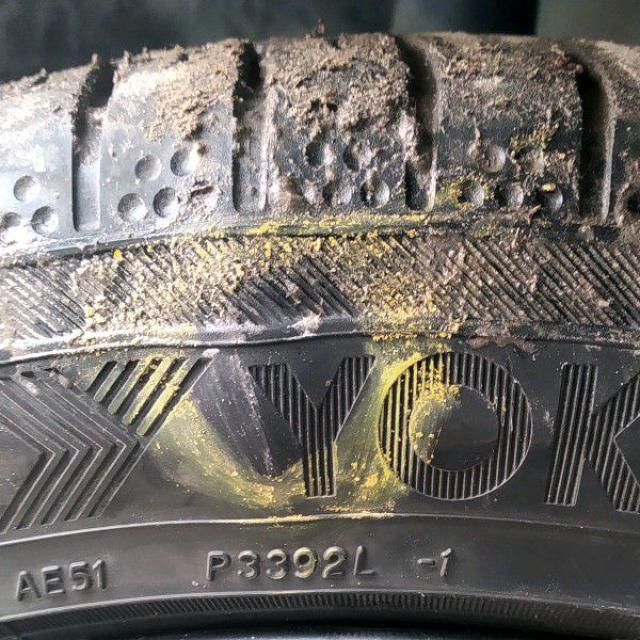Bulge: (189, 276, 367, 448)
